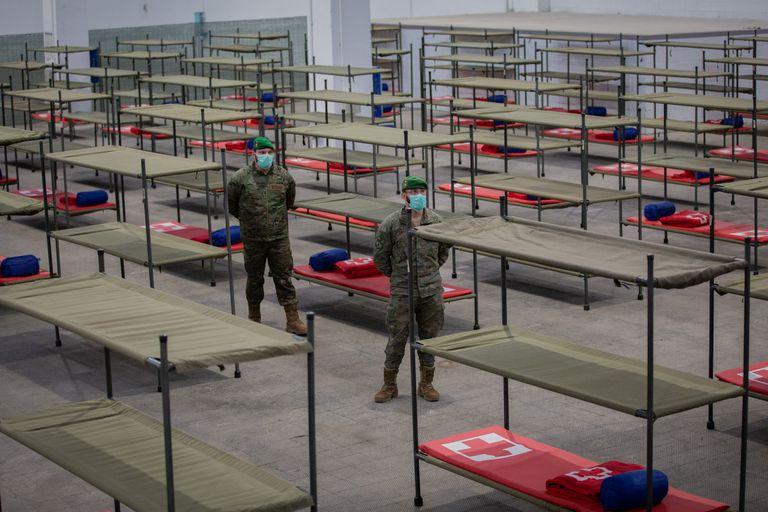with_mask: (248, 140, 277, 171), (403, 178, 430, 211)
